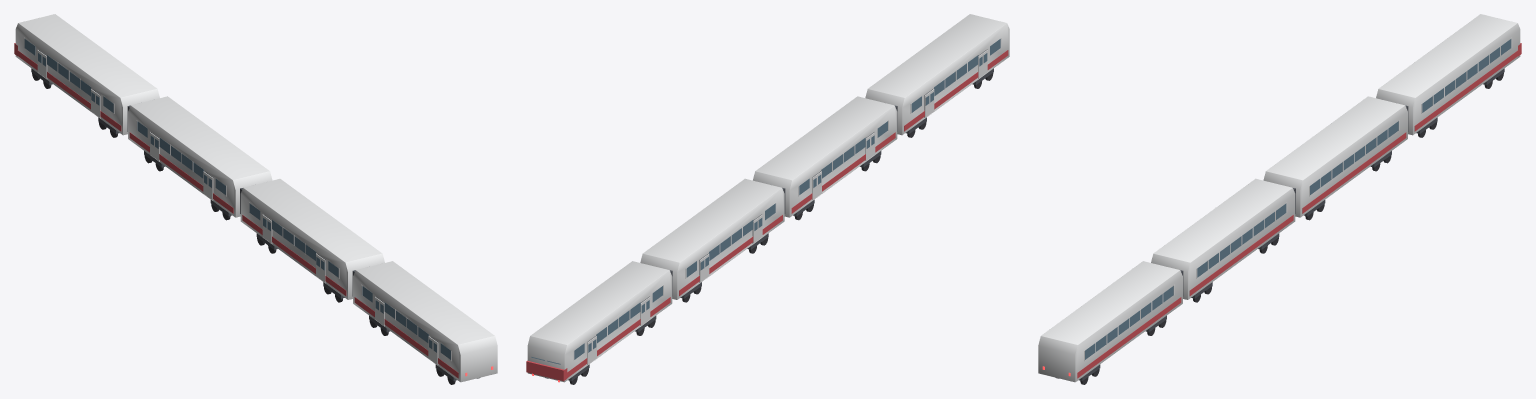
The model's file is redline-dmu.glb.
3 views of the same model, side by side, from view 1: azimuth 30°, elevation 25°; view 2: azimuth 150°, elevation 25°; view 3: azimuth 330°, elevation 25° (orthographic).
Visible parts, largest first — view 1: redline-dmu_body; view 2: redline-dmu_body; view 3: redline-dmu_body.
Boxes of the visible parts, bbox=[...] form: redline-dmu_body: bbox=[14, 14, 497, 382]; redline-dmu_body: bbox=[526, 14, 1009, 382]; redline-dmu_body: bbox=[1038, 14, 1521, 382].
Bounding box in the file's own units: 2.96 × 3.69 × 60.19.
